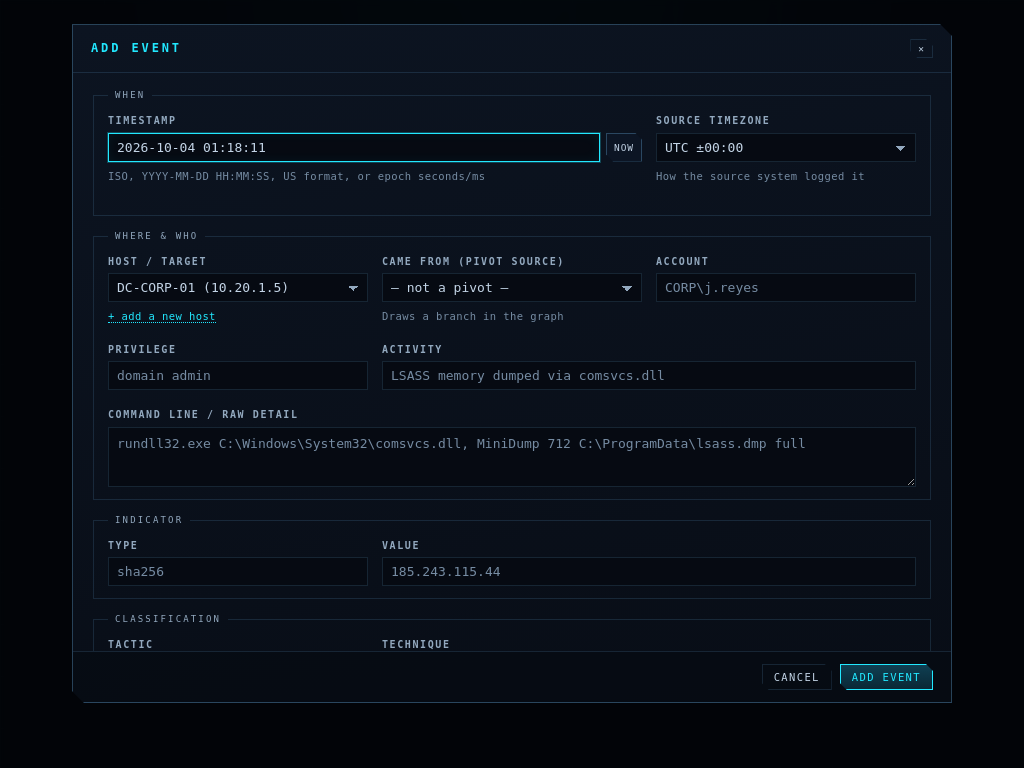
EventEditor › refuses an unparseable timestamp
The width and height of the screenshot is (1024, 768).
Replace the text in the field labelled "Timestamp" with "yesterday-ish" at (354, 147), box [108,132,600,162]
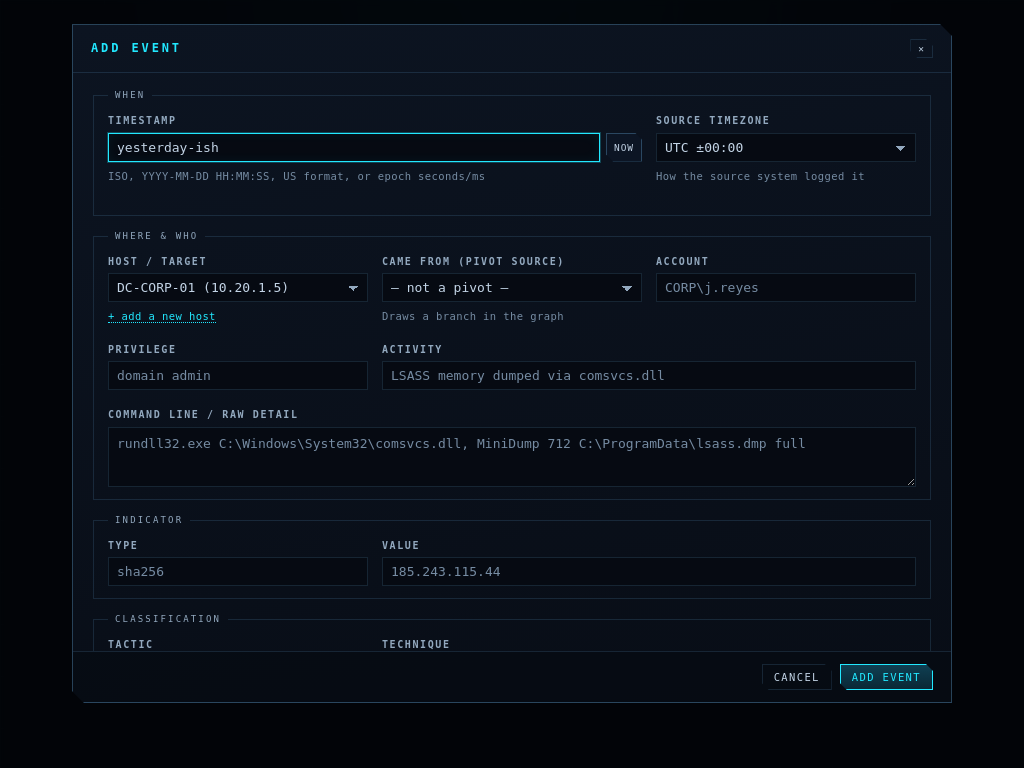
Click the button with test id "event-save" at (886, 677), box [840,664,933,690]
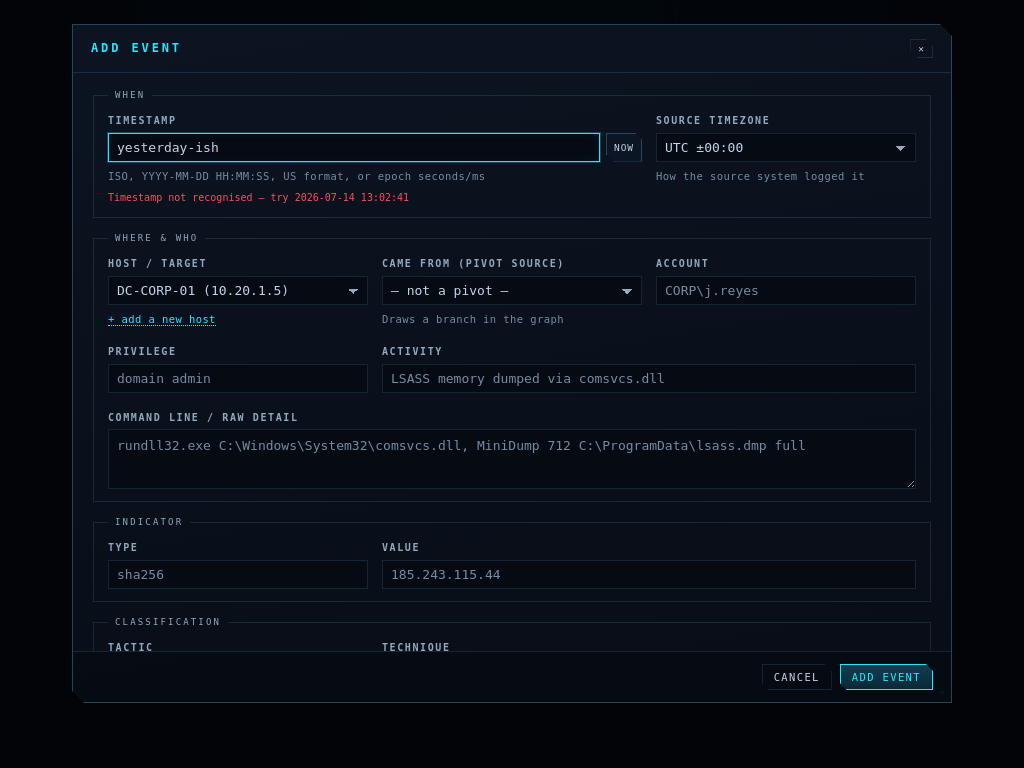
Result: the text "Timestamp not recognised — try 2026-07-14 13:02:41" is shown at [108,192,409,203]
